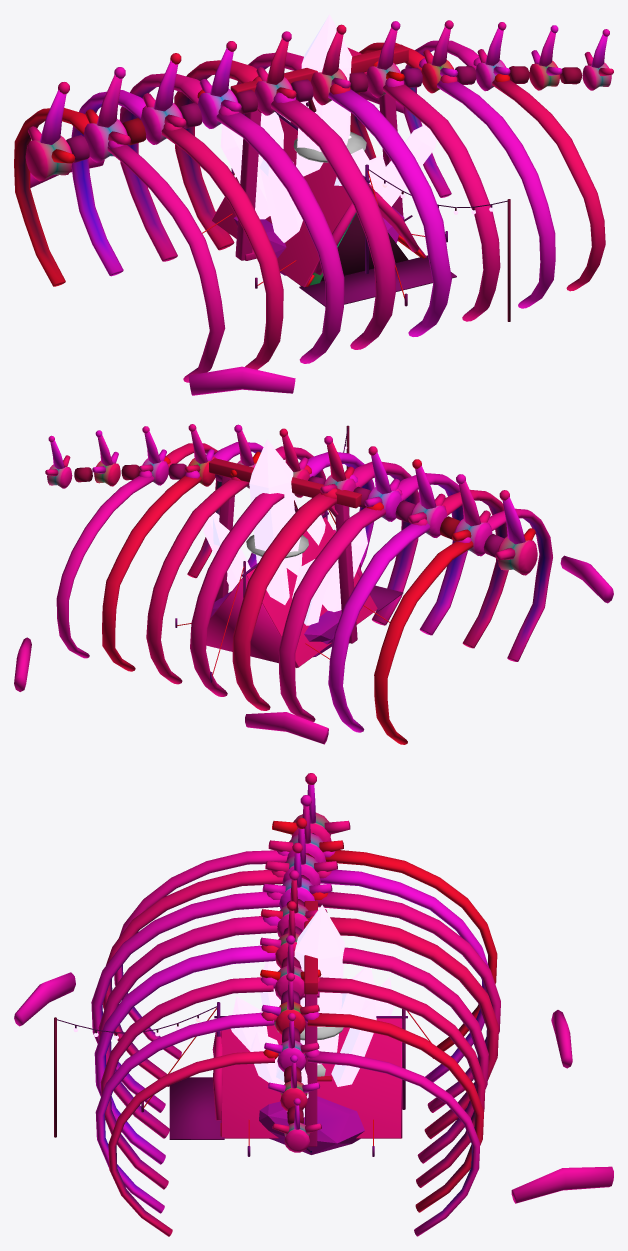
File: setpieces.glb
3 renders of one model, top to bottom at view 1: azimuth 30°, elevation 25°; view 2: azimuth 150°, elevation 25°; view 3: azimuth 270°, elevation 25°, orthographic. The views are drawn at different scales.
Visible parts, largest first — view 1: Ribcage, CampTent, CrystalCluster, MineFrame, Decor_Parasol; view 2: Ribcage, CrystalCluster, CampTent, MineFrame; view 3: Ribcage, CampTent, CrystalCluster, MineFrame.
Part boxes in pixels (x1,y1,x2,y2): Ribcage: (14,20,613,395); CampTent: (202,111,510,321); CrystalCluster: (220,14,436,275); MineFrame: (230,44,408,260); Decor_Parasol: (293,132,366,162); Ribcage: (14,424,613,744); CrystalCluster: (203,439,367,657); CampTent: (175,425,403,682); MineFrame: (209,458,361,643); Ribcage: (14,773,613,1236); CampTent: (54,1002,466,1156); CrystalCluster: (231,905,394,1154); MineFrame: (303,901,319,1146).
Size of the model in its own units: 9.27 by 4.24 by 8.68.
